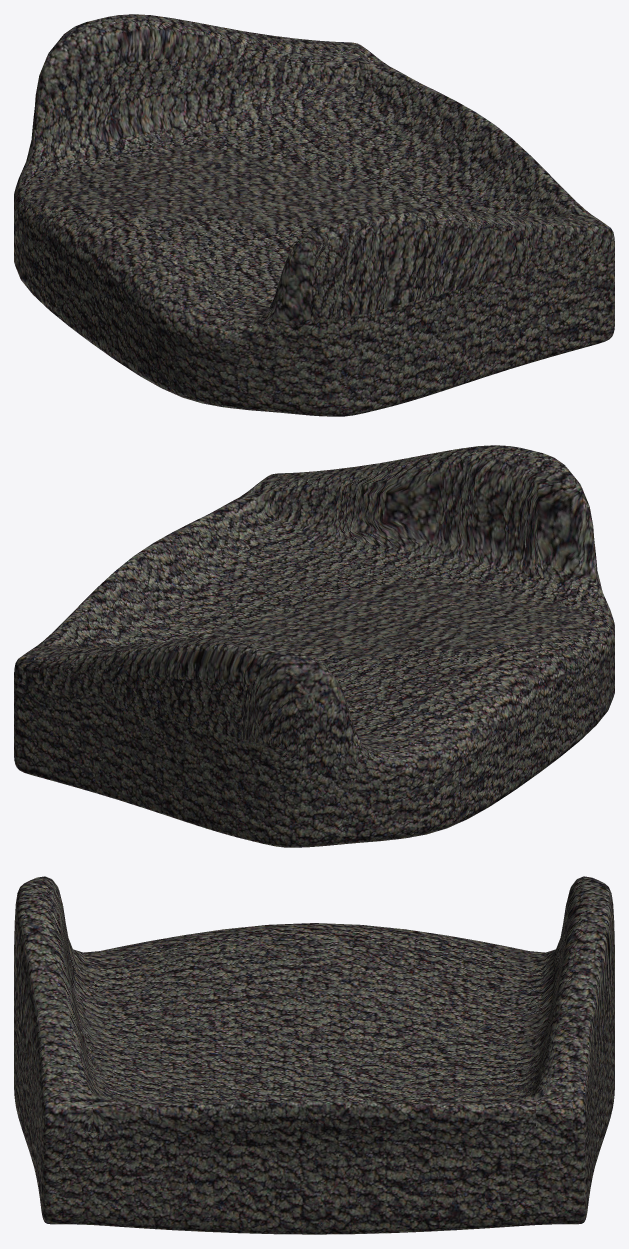
The model's file is seat_lower.fbx.
3 renders of one model, top to bottom at view 1: azimuth 30°, elevation 25°; view 2: azimuth 150°, elevation 25°; view 3: azimuth 270°, elevation 25°, orthographic. The views are drawn at different scales.
Parts seen in each view (by area): view 1: LowerSeatSurface; view 2: LowerSeatSurface; view 3: LowerSeatSurface.
Part boxes in pixels (x1,y1,x2,y2): LowerSeatSurface: (14, 14, 614, 416); LowerSeatSurface: (14, 445, 614, 847); LowerSeatSurface: (14, 876, 614, 1234).
Bounding box in the file's own units: 0.2119 × 0.0992 × 0.2539.
